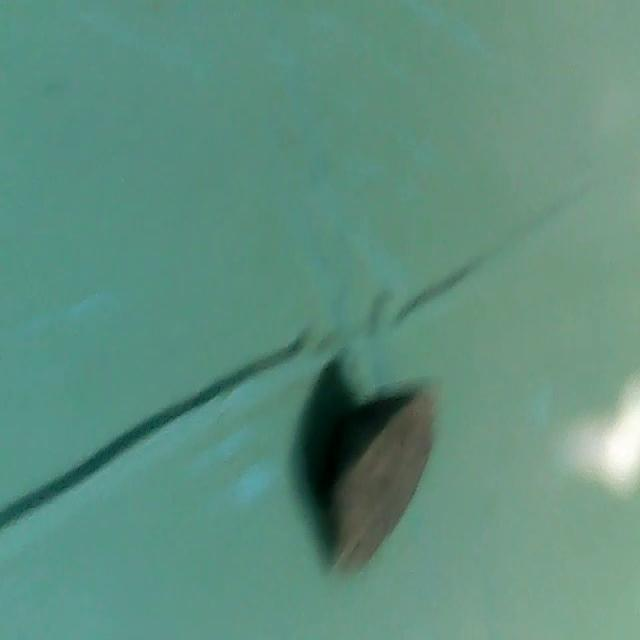rock: (311, 376, 444, 595)
